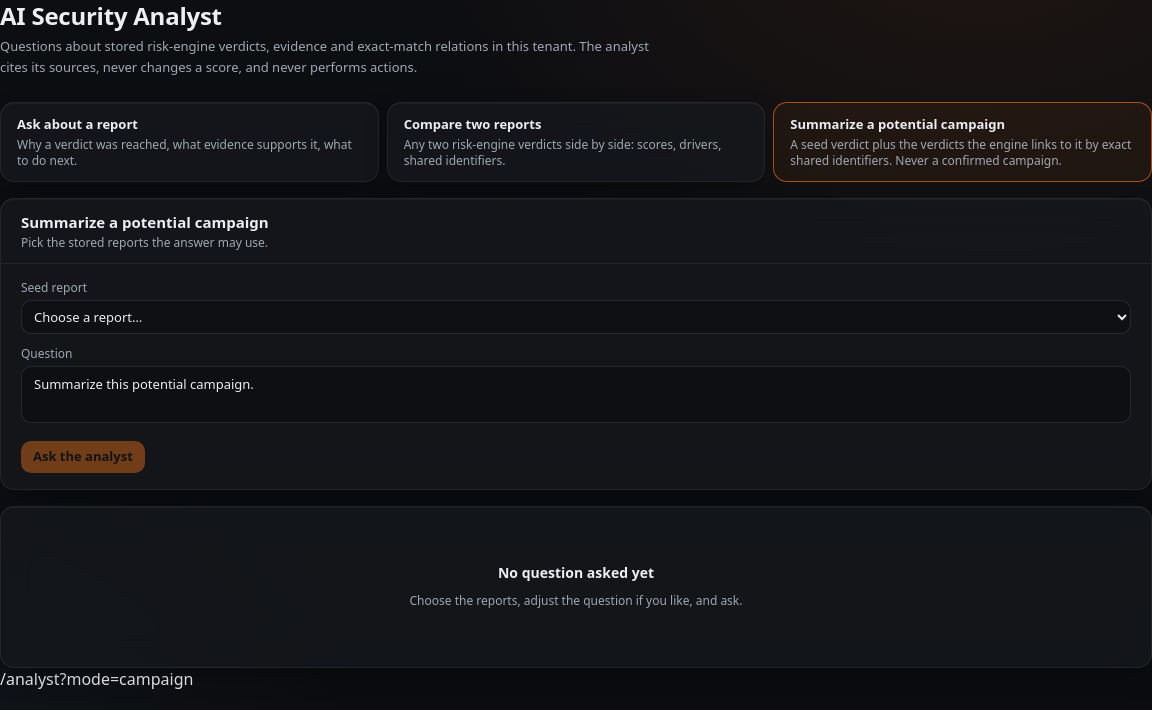
Test: AI Security Analyst page › summarizes a potential campaign from the seed's exact-match links only
The width and height of the screenshot is (1152, 710).
Select "Acme Help Desk (SYNTHETIC) vs Acme — 64 High" in the dropdown labelled "Seed report". click: (576, 317)
box: [21,300,1131,334]
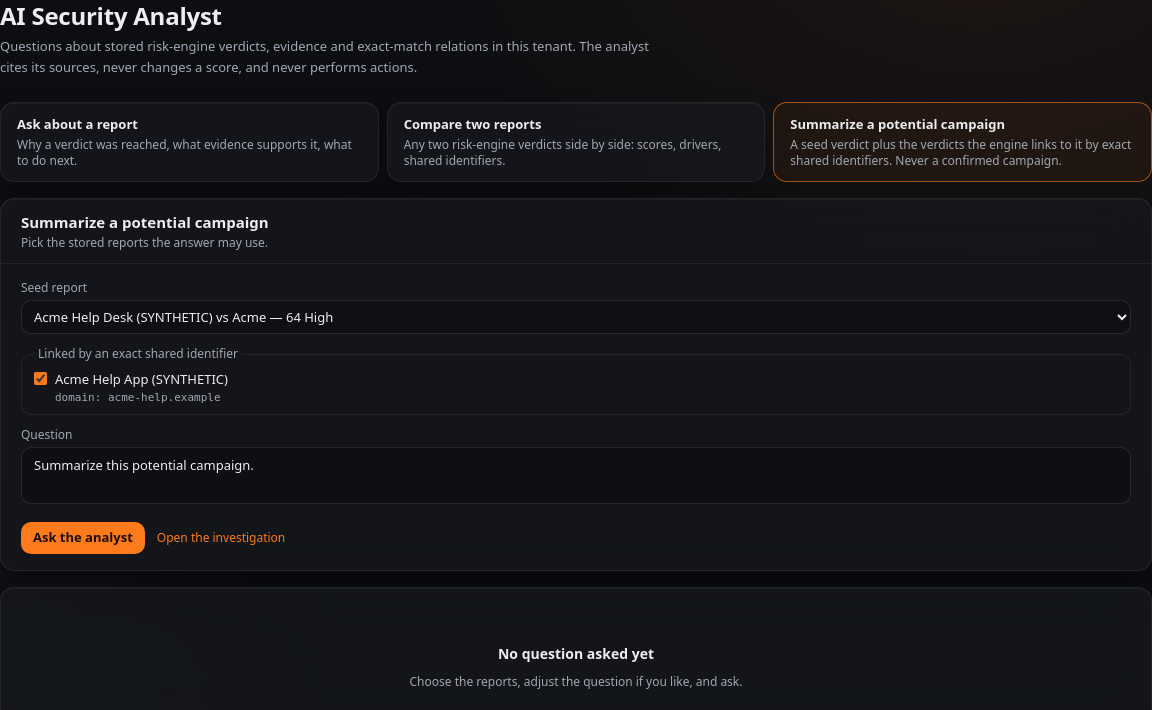
Result: the checkbox labelled "Acme Help App (SYNTHETIC) domain: acme-help.example" is checked at [34,372,47,385]
Click the button "Ask the analyst". click: (83, 538)
box: [21,522,145,554]
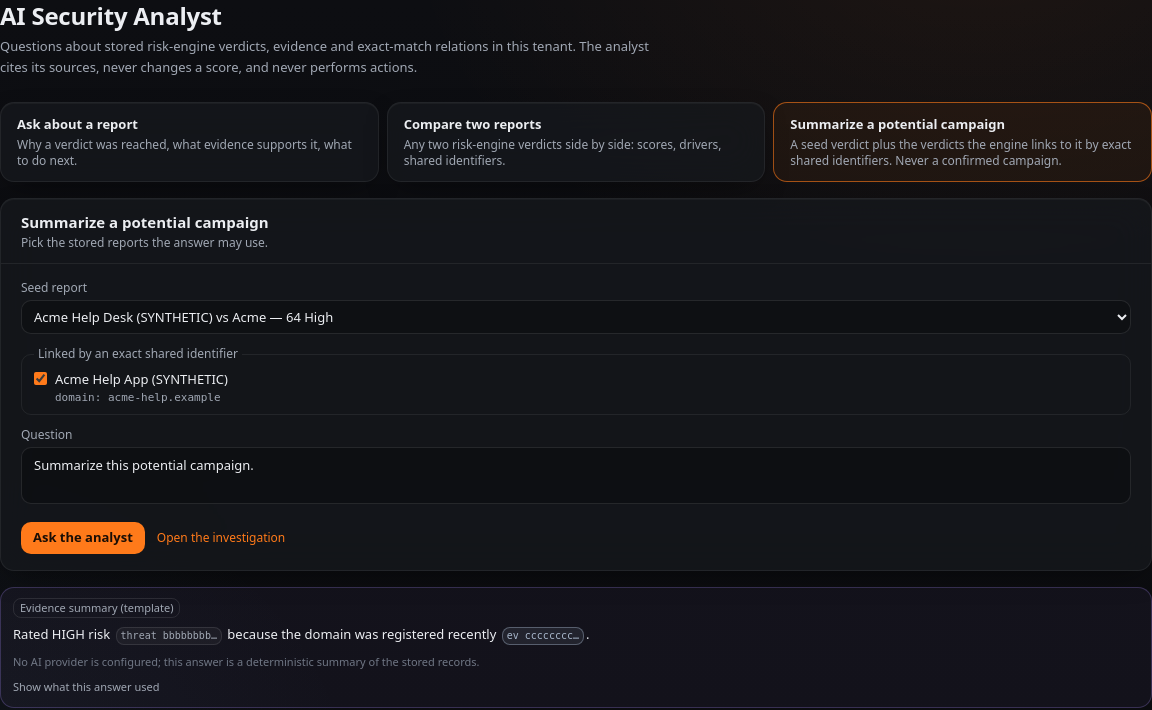
Result: the text "Evidence summary (template)" is shown at [13,598,180,618]
